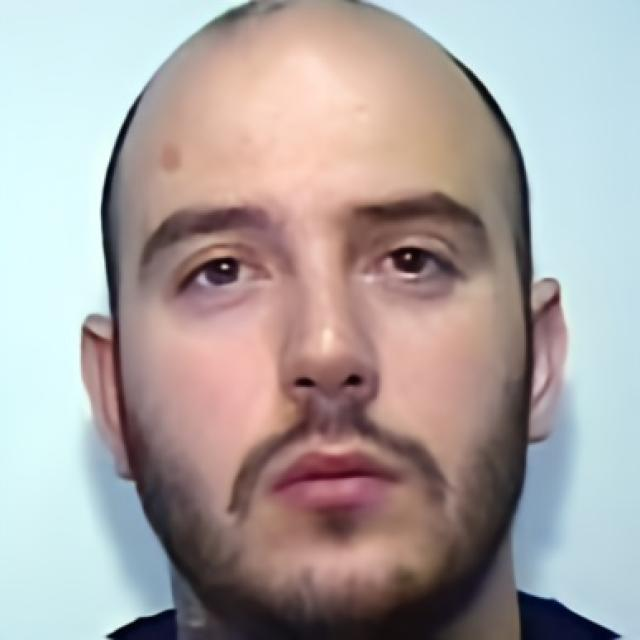neutral: (122, 38, 528, 619)
